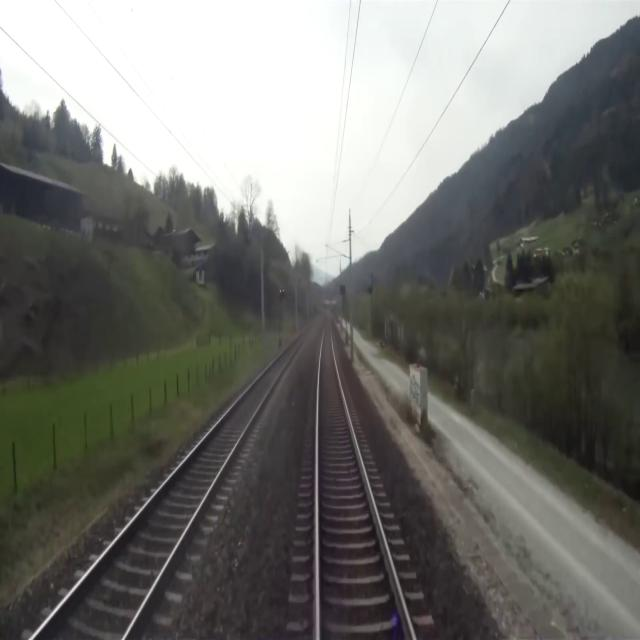rail-track: (35, 322, 314, 639), (319, 309, 412, 639)
